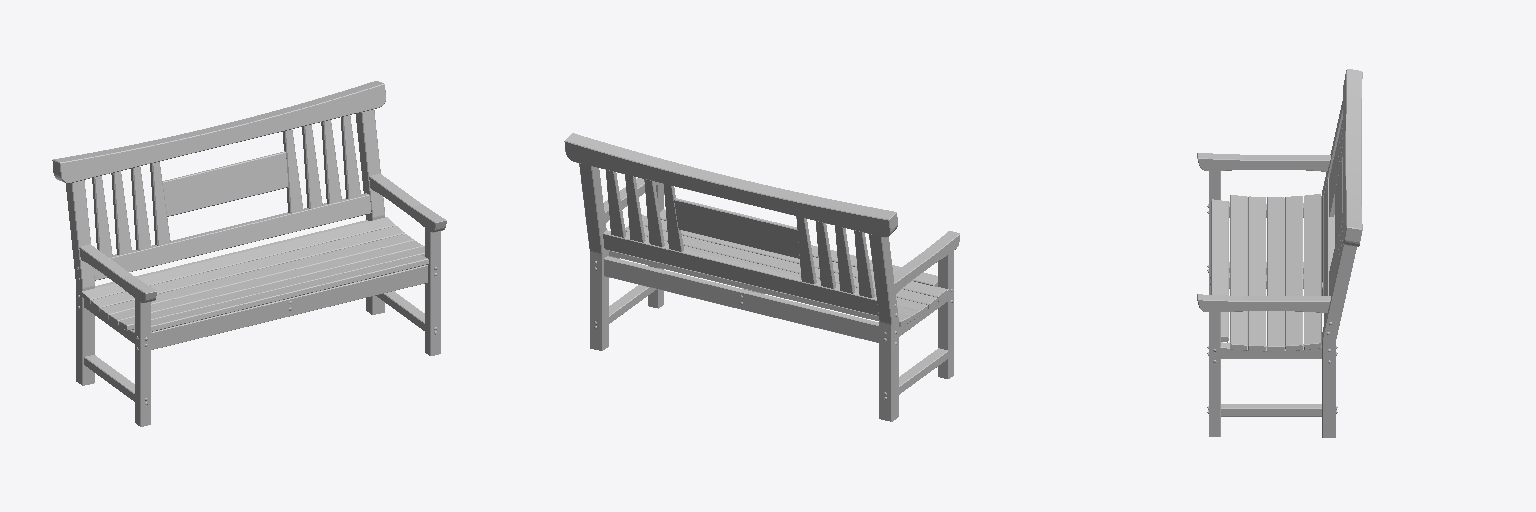
The model's file is Cgtuts_Wood_Bench_OBJ.obj.
3 views of the same model, side by side, from view 1: azimuth 30°, elevation 25°; view 2: azimuth 150°, elevation 25°; view 3: azimuth 270°, elevation 25° (orthographic).
Visible parts, largest first — view 1: Cgtuts_Wood_Bench_OBJ; view 2: Cgtuts_Wood_Bench_OBJ; view 3: Cgtuts_Wood_Bench_OBJ.
Part boxes in pixels (x1,y1,x2,y2): Cgtuts_Wood_Bench_OBJ: (52, 81, 446, 426); Cgtuts_Wood_Bench_OBJ: (564, 133, 959, 421); Cgtuts_Wood_Bench_OBJ: (1197, 69, 1362, 437).
Bounding box in the file's own units: 5.85 × 3.72 × 2.57.